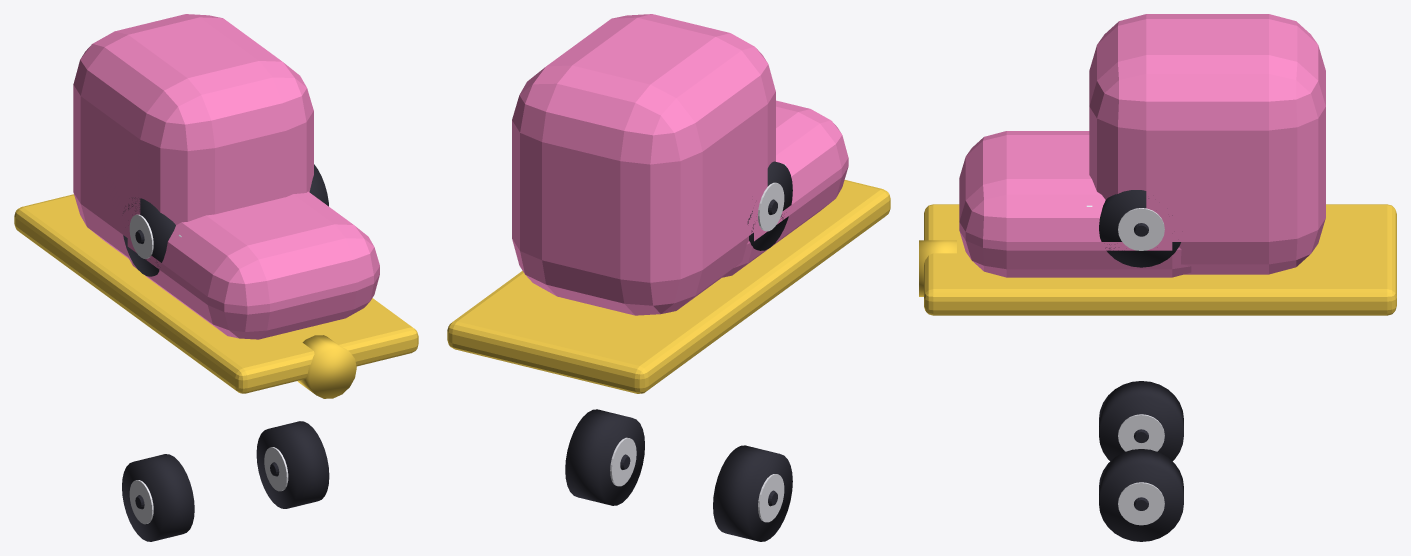
The model's file is Car_Skate.fbx.
3 views of the same model, side by side, from view 1: azimuth 30°, elevation 25°; view 2: azimuth 150°, elevation 25°; view 3: azimuth 270°, elevation 25° (orthographic). The views are drawn at different scales.
Parts seen in each view (by area): view 1: Car_Skate, Wheel_FL, Wheel_FR, Wheel_RL; view 2: Car_Skate, Wheel_FL, Wheel_FR, Wheel_RL; view 3: Car_Skate, Wheel_FR, Wheel_FL, Wheel_RR.
Boxes of the visible parts, bbox=[...] form: Car_Skate: bbox=[14, 14, 418, 398]; Wheel_FL: bbox=[122, 454, 194, 541]; Wheel_FR: bbox=[256, 421, 329, 508]; Wheel_RL: bbox=[123, 197, 175, 276]; Car_Skate: bbox=[447, 14, 890, 393]; Wheel_FL: bbox=[713, 445, 792, 541]; Wheel_FR: bbox=[565, 409, 644, 505]; Wheel_RL: bbox=[747, 161, 792, 250]; Car_Skate: bbox=[919, 14, 1396, 315]; Wheel_FR: bbox=[1099, 449, 1183, 541]; Wheel_FL: bbox=[1099, 381, 1183, 461]; Wheel_RR: bbox=[1099, 190, 1180, 267].
Size of the model in its own units: 0.46 by 1.08 by 1.01.
